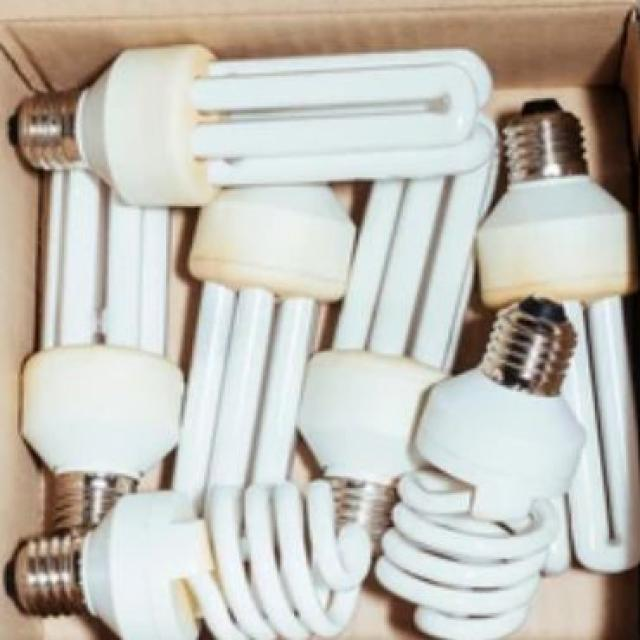electronic: (4, 39, 638, 638), (472, 98, 638, 574), (372, 294, 586, 638)
